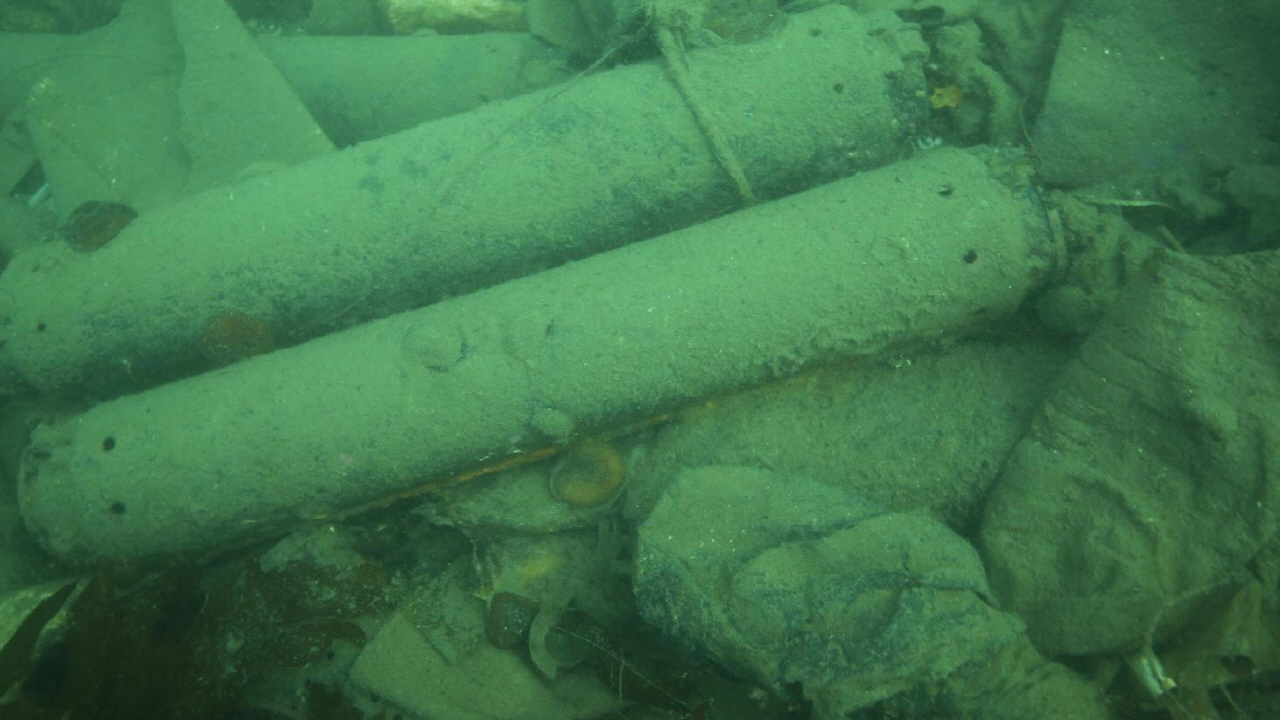eel fish trap: (12, 142, 1066, 570), (0, 0, 935, 401)
rope: (640, 3, 761, 209)
